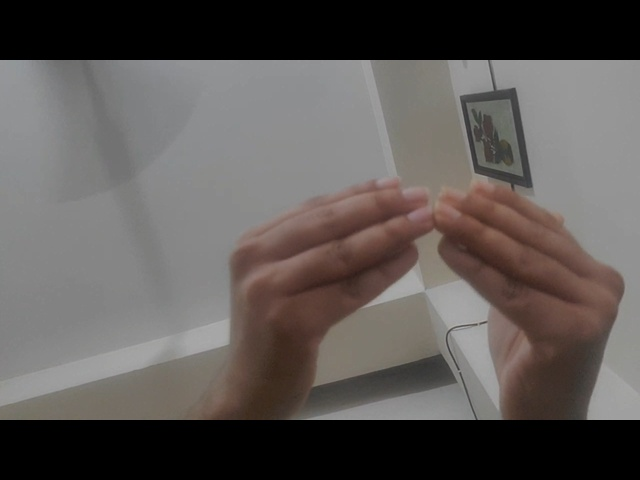Thank you: (212, 164, 632, 415)
